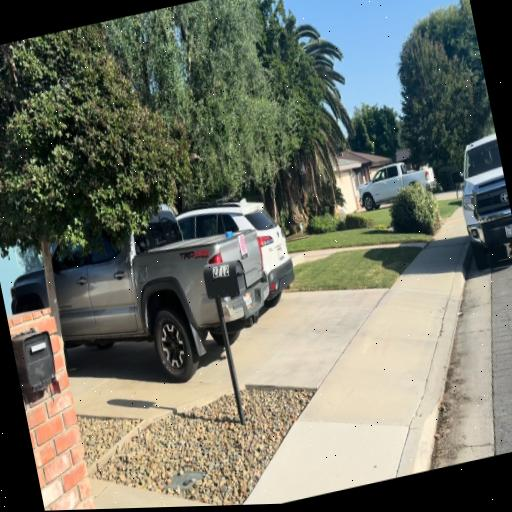bullseye: (238, 234, 247, 255)
